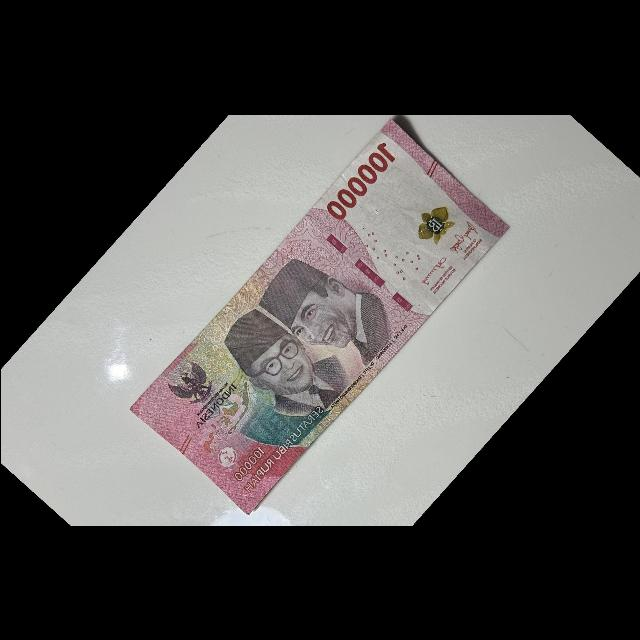Palsu-100k: (121, 113, 515, 521)
Tinta-Palsu-100k: (406, 196, 460, 251)
